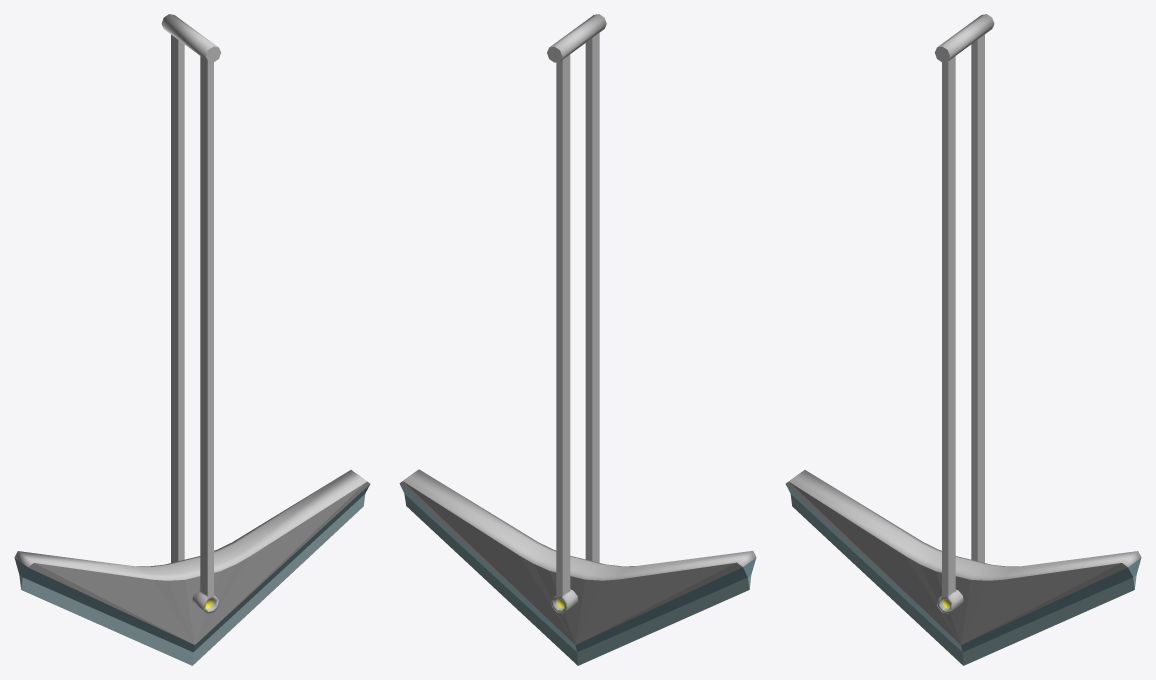
The model's file is CuttingTrap_low.fbx.
The picture shows the model from 3 angles, left to right: view 1: azimuth 30°, elevation 25°; view 2: azimuth 150°, elevation 25°; view 3: azimuth 330°, elevation 25°; orthographic projection.
Parts seen in each view (by area): view 1: CuttingTrap, CuttingTrapPoles; view 2: CuttingTrap, CuttingTrapPoles; view 3: CuttingTrap, CuttingTrapPoles.
Boxes of the visible parts, <box> form: CuttingTrap: <box>14,470,370,665</box>; CuttingTrapPoles: <box>161,14,221,613</box>; CuttingTrap: <box>399,469,756,665</box>; CuttingTrapPoles: <box>547,14,606,613</box>; CuttingTrap: <box>785,470,1141,665</box>; CuttingTrapPoles: <box>934,14,994,613</box>.
Bounding box in the file's own units: 72.2 × 16.21 × 128.
